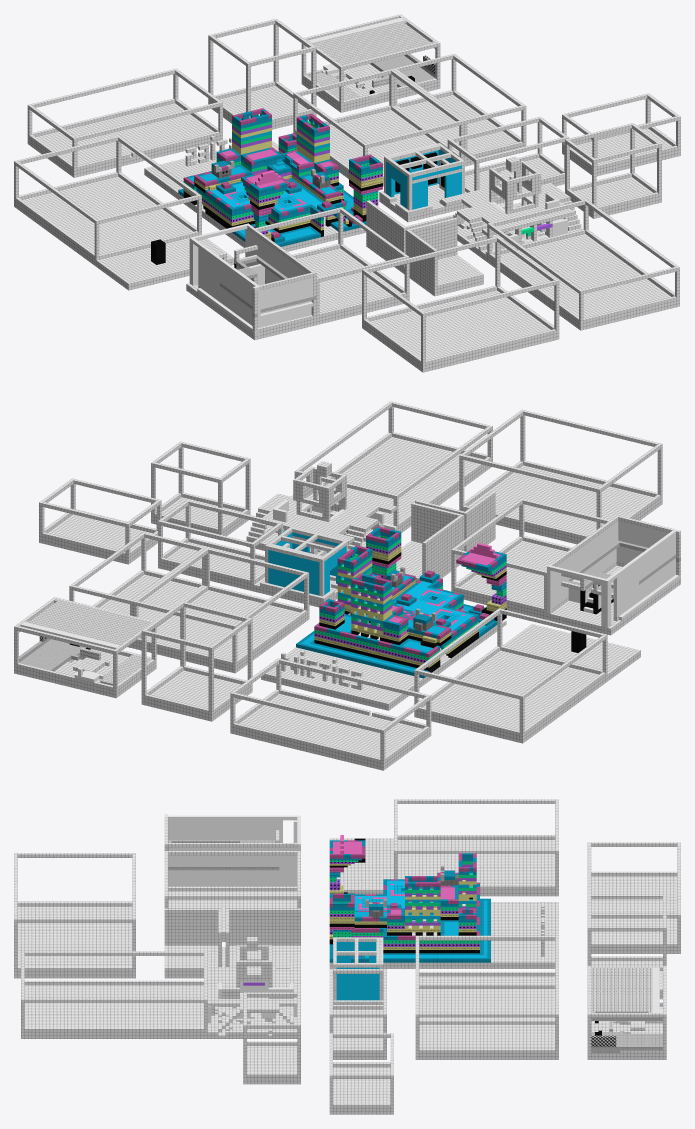
File: Axies-v2.glb
3 renders of one model, top to bottom at view 1: azimuth 30°, elevation 25°; view 2: azimuth 150°, elevation 25°; view 3: azimuth 270°, elevation 25°, orthographic. The views are drawn at different scales.
Visible parts, largest first — view 1: solid-voxels_14.001; view 2: solid-voxels_14.001; view 3: solid-voxels_14.001.
Part boxes in pixels (box(x1,y1,x2,y2)): solid-voxels_14.001: box(14, 14, 680, 372); solid-voxels_14.001: box(14, 401, 680, 770); solid-voxels_14.001: box(14, 799, 680, 1114).
Size of the model in its own units: 89 by 12 by 93.
Materials: 1 (1 with a texture image).
